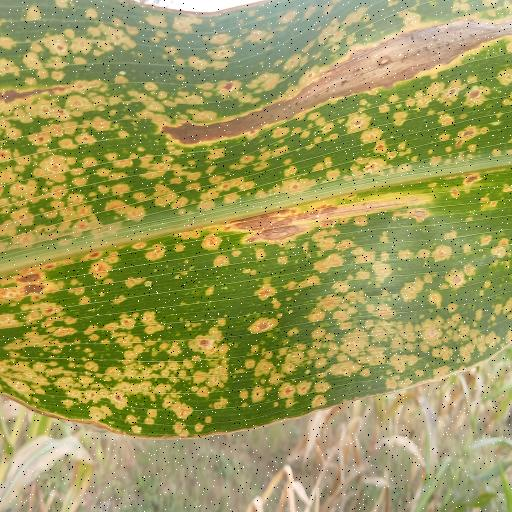Corn_Yellow_Spots: (0, 0, 512, 441)
